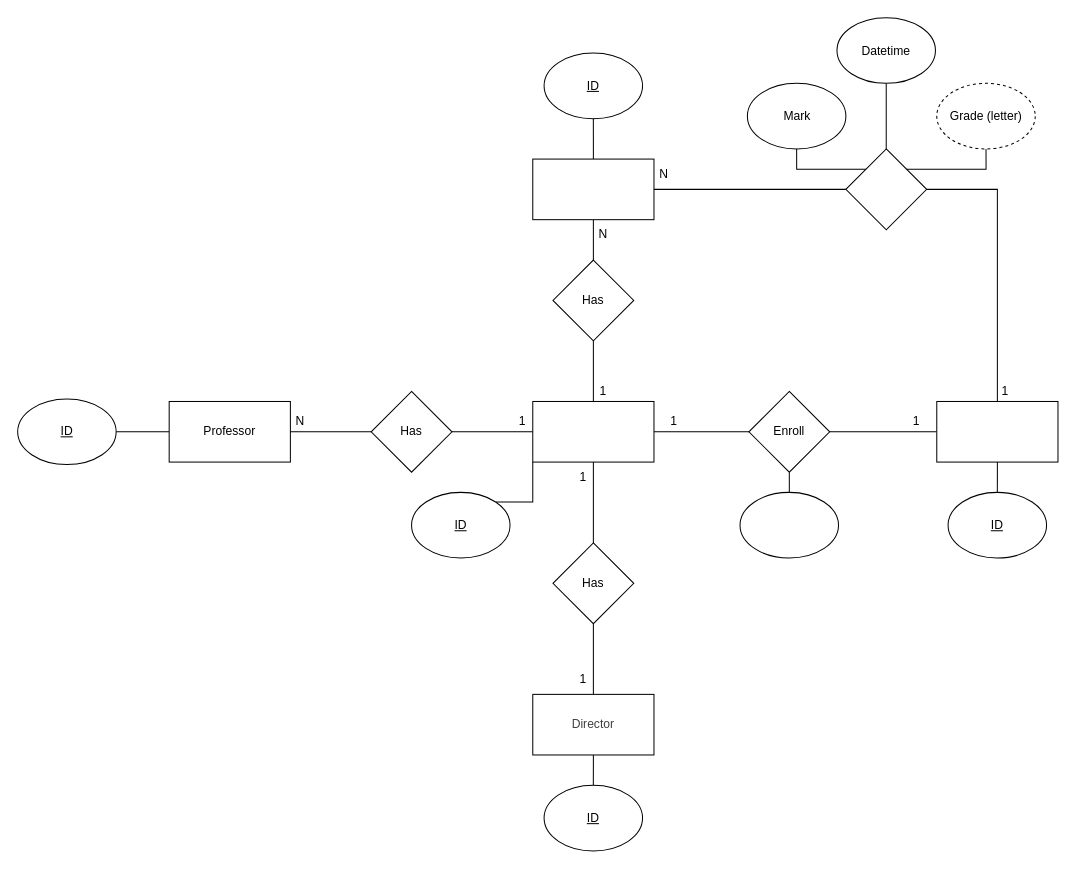
The diagram is 1076 pixels wide and 869 high, and some of its shapes have lost their labels. The centre of each missing label's shape, as x and y in pixels:
"Course" goes at point (593, 189).
"Faculty" goes at point (593, 431).
"Group number" goes at point (789, 524).
"Pass the course" goes at point (886, 189).
"Student" goes at point (997, 431).
